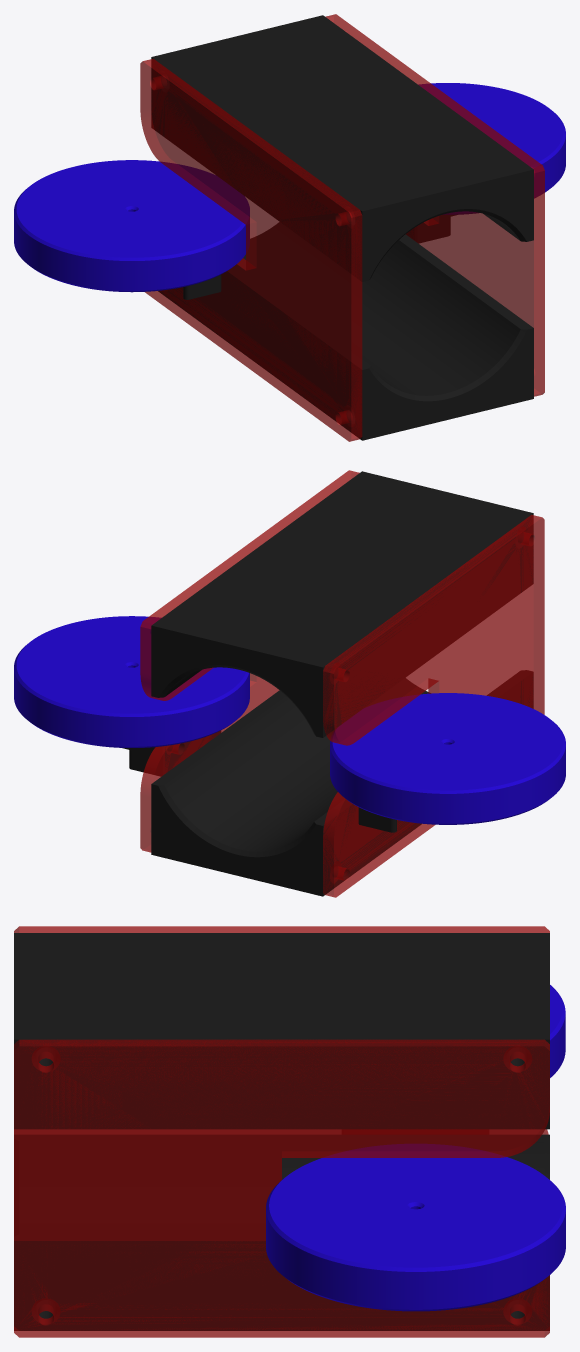
The model's file is ball-launcher-test.glb.
3 renders of one model, top to bottom at view 1: azimuth 30°, elevation 25°; view 2: azimuth 150°, elevation 25°; view 3: azimuth 270°, elevation 25°, orthographic. The views are drawn at different scales.
Visible parts, largest first — view 1: Guide001, Guide, Corps001, roue (×2), Corps, support-motor-RS360S (×2); view 2: Guide001, roue (×2), Corps001, Guide, Corps, support-motor-RS360S (×2); view 3: Corps, Guide001, Guide, roue (×2), Corps001.
Part boxes in pixels (box(x1,y1,x2,y2)): Guide001: box(151, 15, 533, 281); Guide: box(158, 222, 533, 440); Corps001: box(140, 58, 362, 441); roue (×2): box(14, 83, 565, 292); Corps: box(325, 14, 544, 396); support-motor-RS360S (×2): box(183, 215, 454, 299); Guide001: box(151, 471, 533, 737); roue (×2): box(14, 616, 565, 824); Corps001: box(323, 514, 544, 897); Guide: box(151, 670, 533, 896); Corps: box(140, 470, 359, 852); support-motor-RS360S (×2): box(122, 730, 396, 832); Corps: box(14, 1039, 549, 1337); Guide001: box(14, 933, 549, 1129); Guide: box(14, 1134, 549, 1330); roue (×2): box(266, 985, 565, 1311); Corps001: box(14, 926, 549, 1134).
Bounding box in the file's own units: 0.1425 × 0.06 × 0.103.
